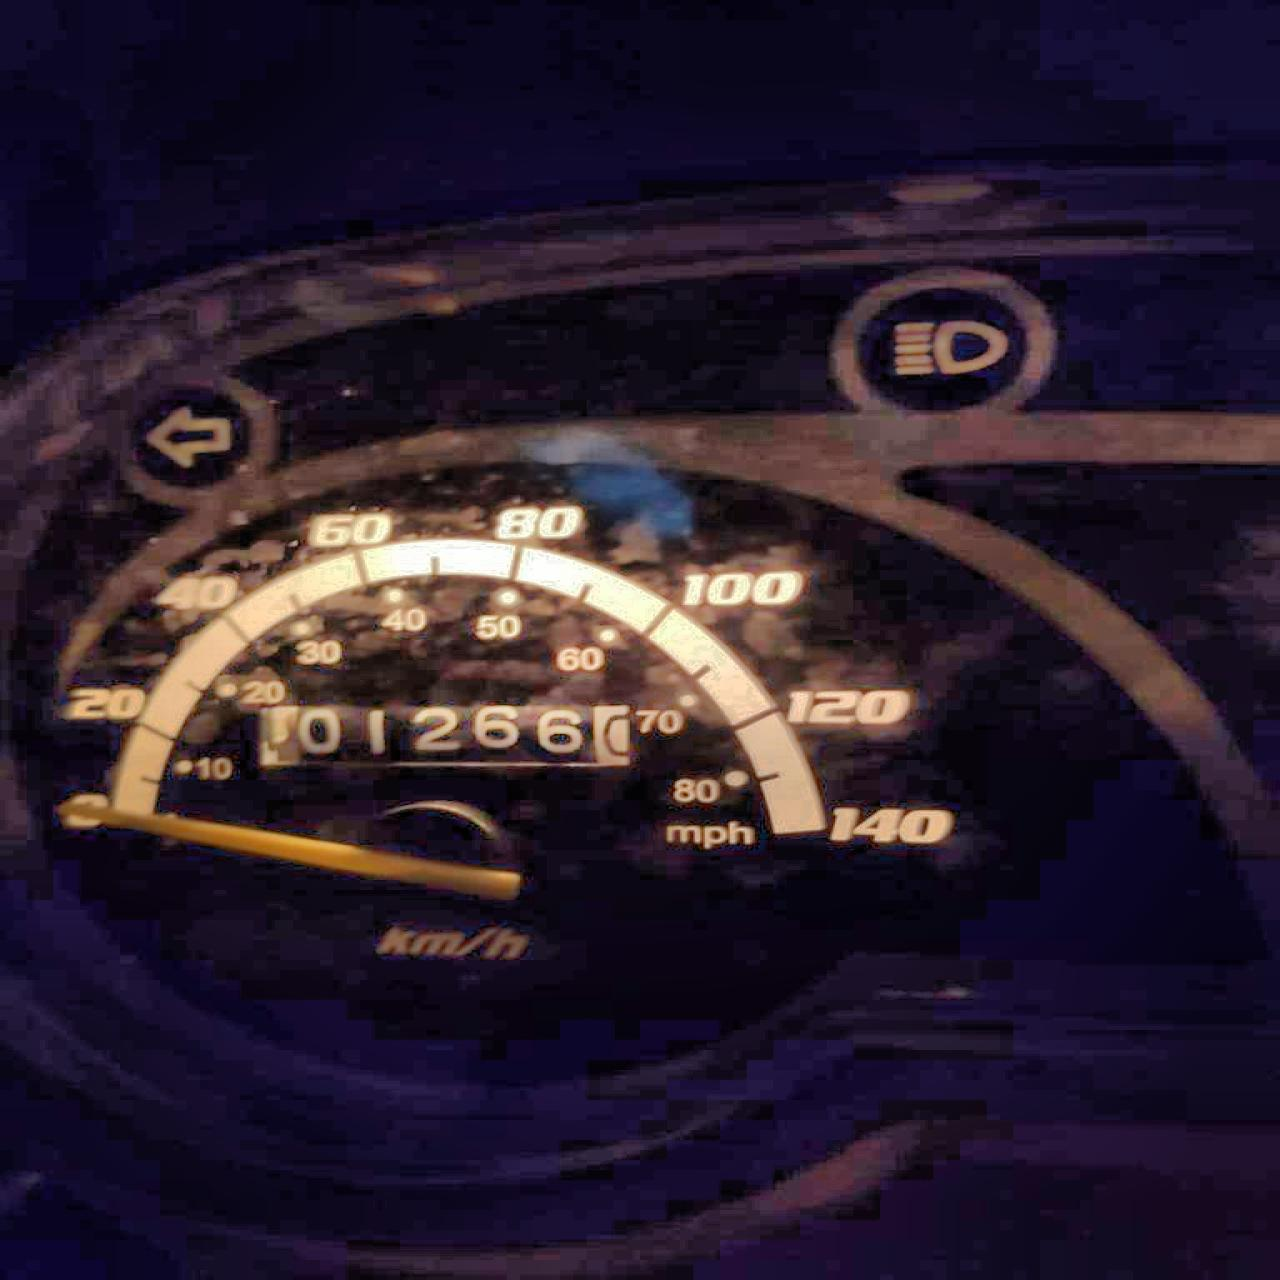0: (294, 708, 339, 753), (600, 713, 635, 756)
1: (367, 708, 383, 754)
2: (410, 706, 457, 750)
6: (471, 703, 518, 748), (537, 708, 580, 753)
odometer: (256, 701, 635, 771)
